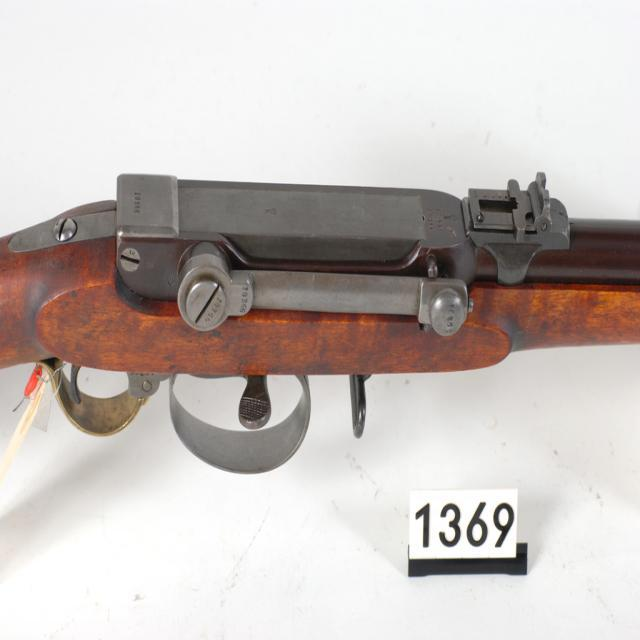weapon: (9, 151, 622, 502)
